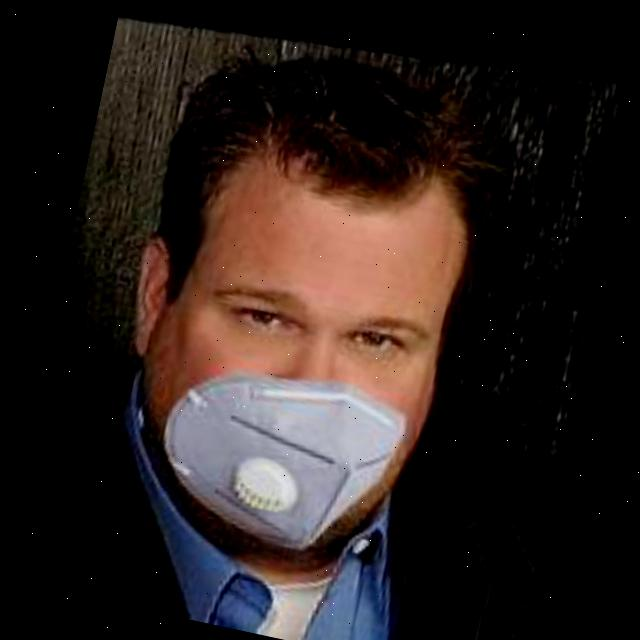suspicion: (14, 19, 549, 618)
